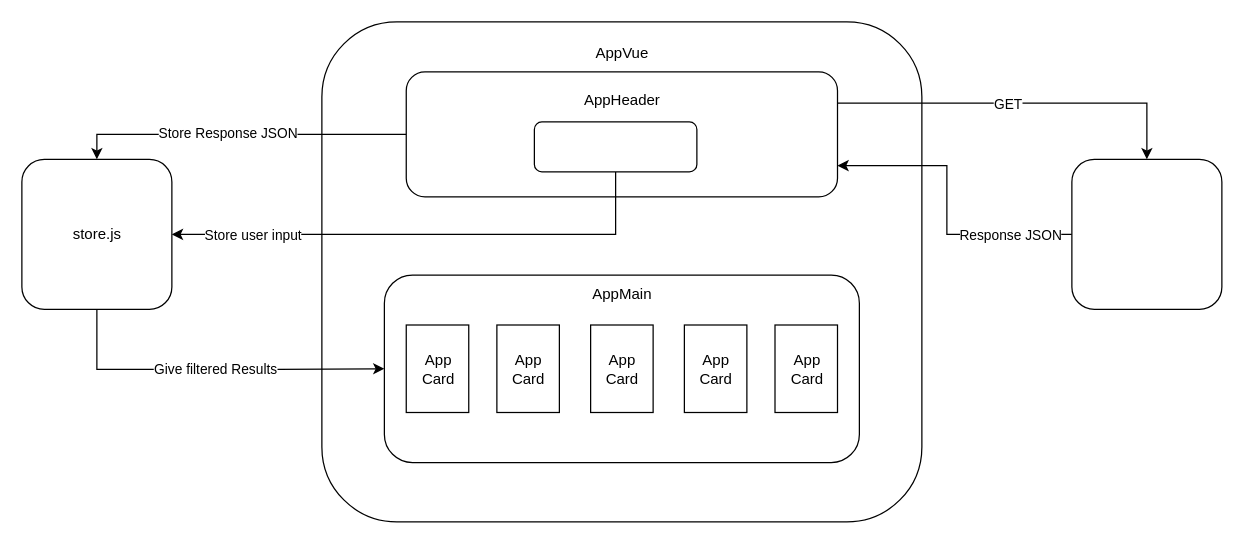
This 1244x544 diagram has some shape labels left out. Each missing label, with the centre of its shape:
API: the point at 1146,233
Search input: the point at 615,146
